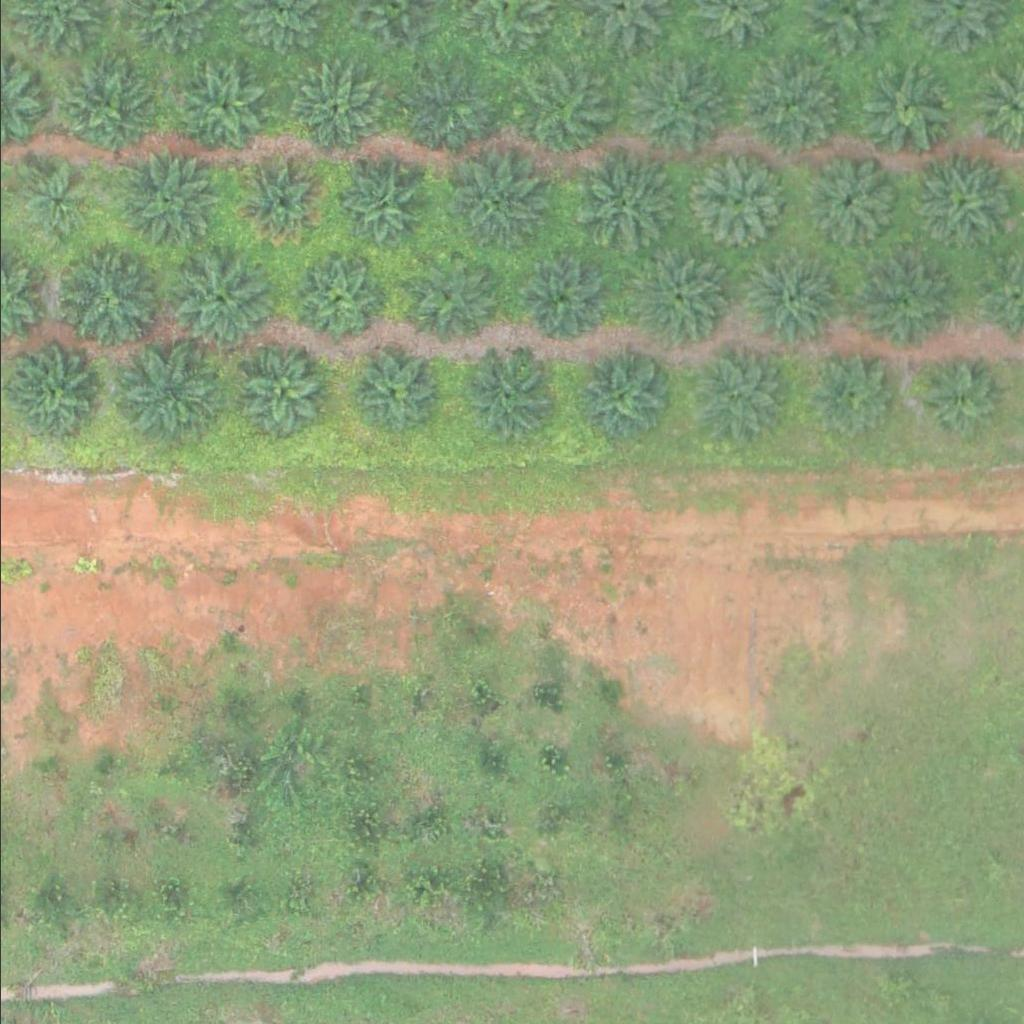Kelapa_Sawit: (744, 57, 845, 157), (623, 62, 724, 162), (684, 153, 785, 253), (573, 152, 674, 252), (440, 153, 541, 253), (739, 255, 840, 355), (628, 248, 729, 348), (569, 347, 670, 447), (169, 57, 270, 157), (53, 58, 154, 158), (851, 251, 951, 351), (912, 151, 1012, 251), (855, 57, 955, 157), (515, 65, 615, 165), (395, 64, 495, 164), (120, 342, 220, 442), (168, 247, 268, 347), (54, 249, 154, 349), (116, 152, 216, 252), (800, 159, 889, 247), (908, 353, 996, 441), (517, 253, 605, 341), (461, 355, 549, 443), (347, 351, 435, 439), (237, 352, 325, 440), (290, 66, 378, 154), (405, 257, 493, 344), (807, 353, 895, 440), (692, 353, 780, 440), (333, 162, 421, 249), (294, 254, 382, 341), (236, 158, 324, 245), (12, 164, 88, 239)
